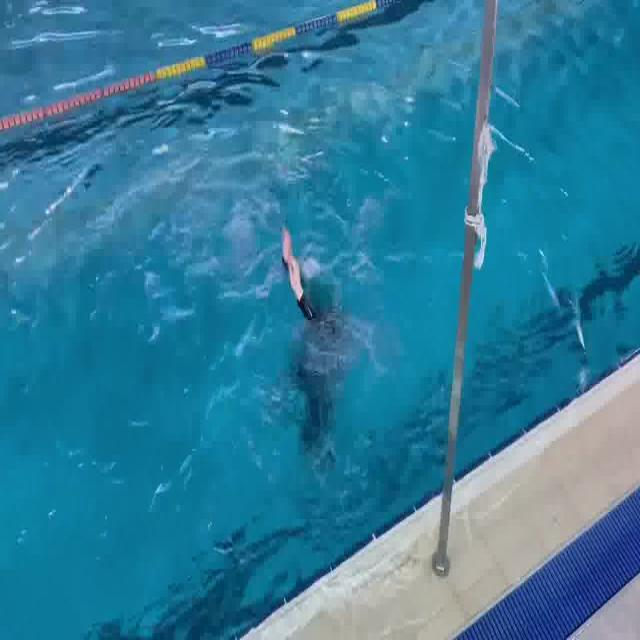Drowning: (262, 220, 378, 468)
